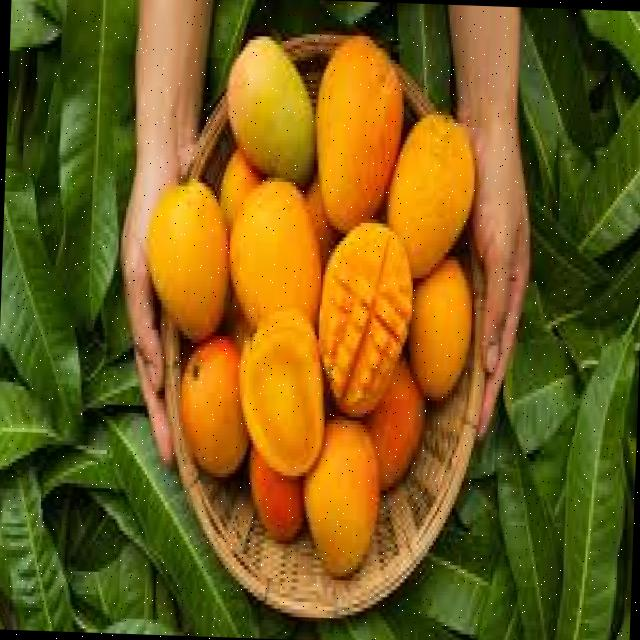mango: (237, 307, 327, 483)
